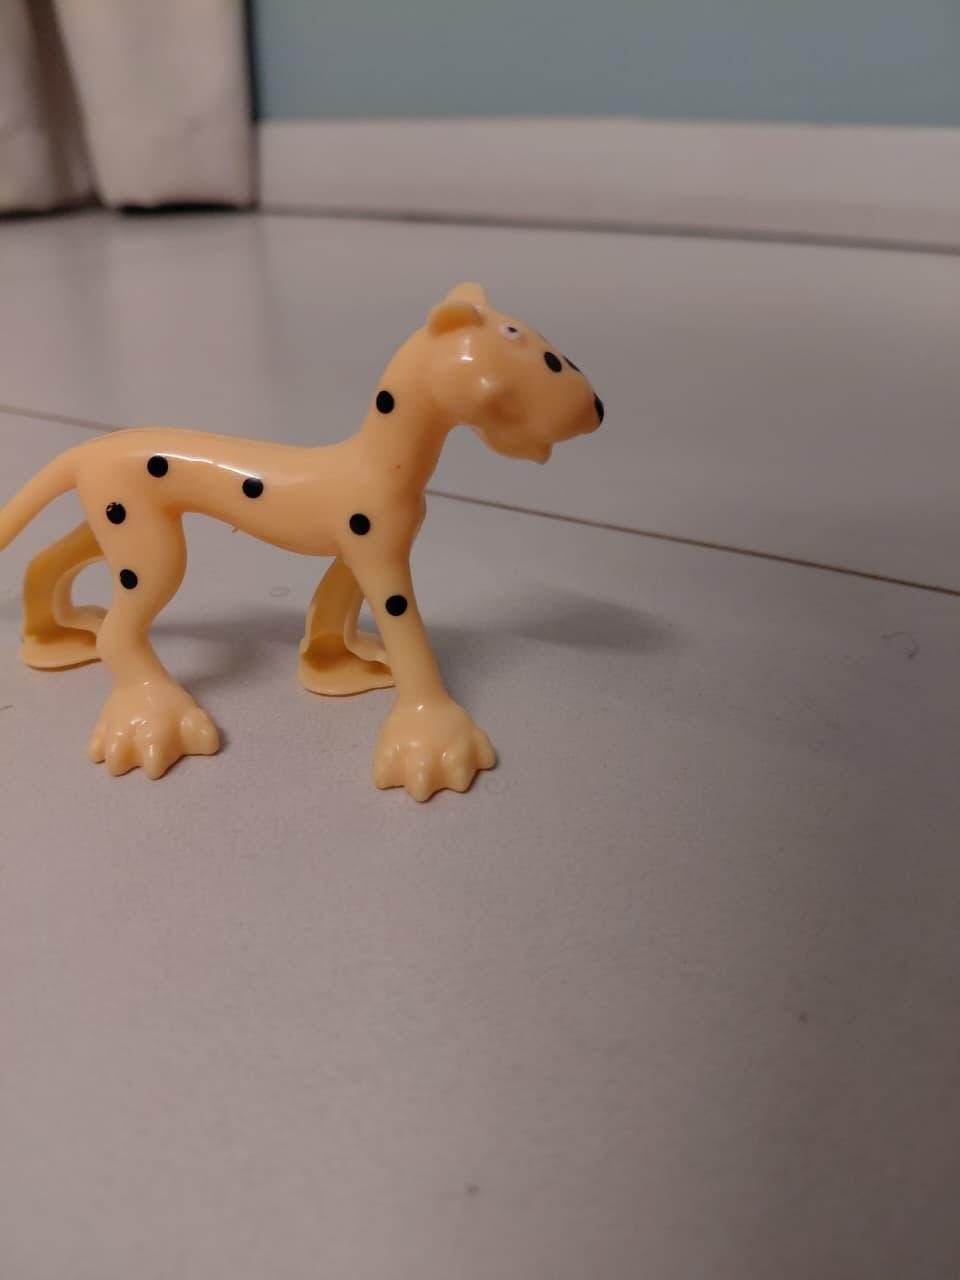cheetah: (0, 280, 678, 869)
